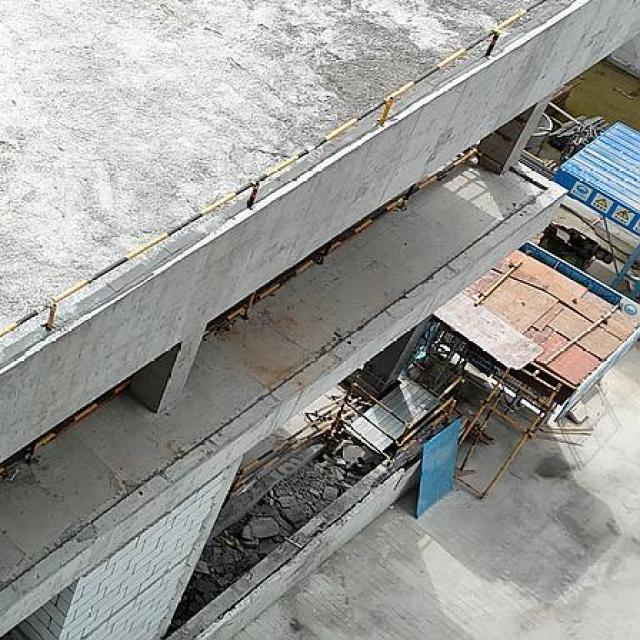edge_guardrail: (0, 0, 551, 335), (203, 147, 481, 339), (26, 378, 138, 452), (236, 418, 323, 492)
